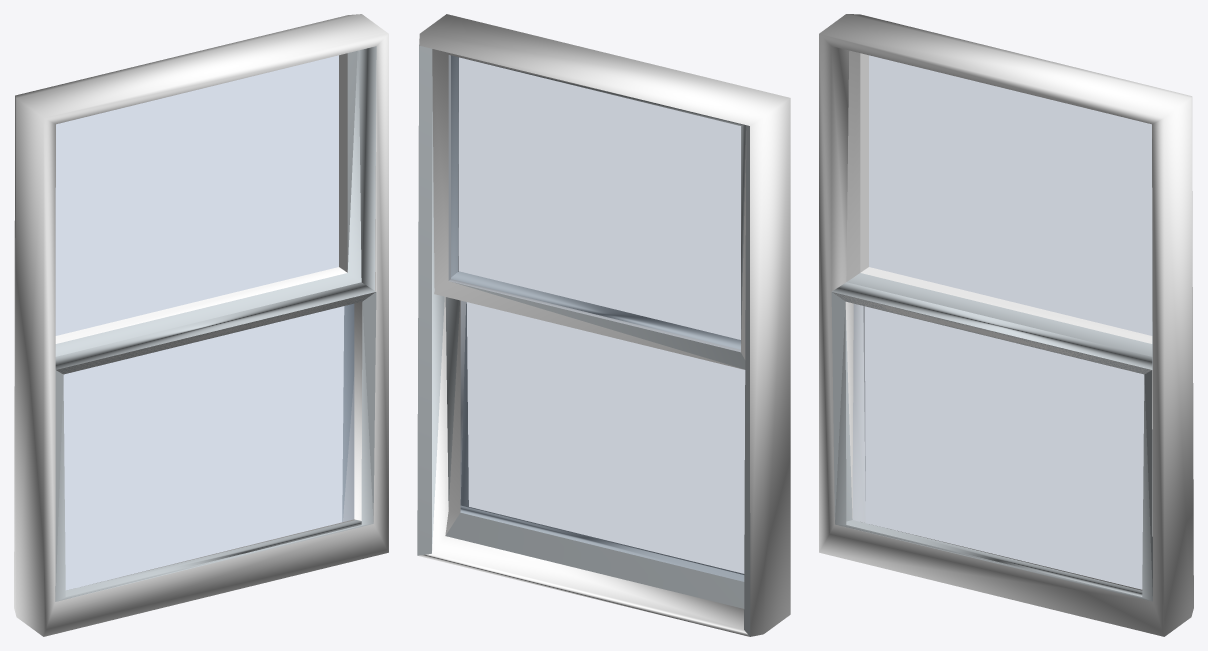
The model's file is windowFrame2.fbx.
3 renders of one model, left to right at view 1: azimuth 30°, elevation 25°; view 2: azimuth 150°, elevation 25°; view 3: azimuth 330°, elevation 25°, orthographic.
Visible parts, largest first — view 1: SketchUp.006; view 2: SketchUp.006; view 3: SketchUp.006.
Part boxes in pixels (x1,y1,x2,y2): SketchUp.006: (14, 14, 388, 636); SketchUp.006: (417, 14, 790, 636); SketchUp.006: (819, 14, 1193, 636).
Size of the model in its own units: 69.93 by 100 by 12.28.
